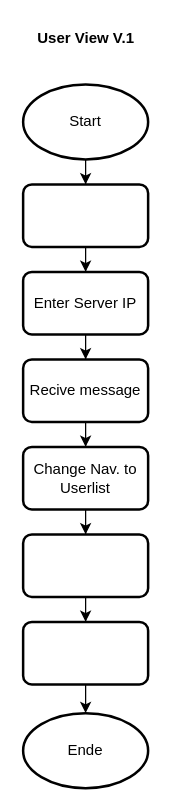
Image size: 170x810. Some labels were removed from this diagram. The shapes that lost their labels are listed below. From the top down, each one's centre as x and y in pixels, then its label:
At (85,215): "Start Application".
At (85,565): "Select a user".
At (85,652): "Send a message to that user".
